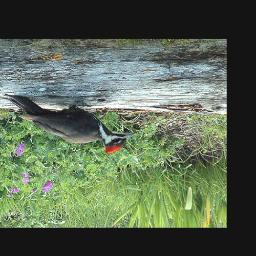Woodpecker: (3, 96, 137, 154)
